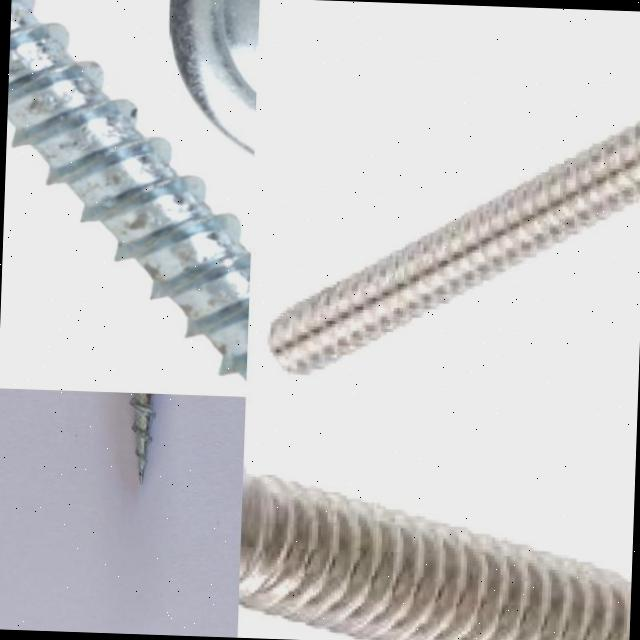Screw: (267, 116, 640, 374), (7, 0, 250, 380), (238, 445, 631, 640), (130, 394, 156, 484)
